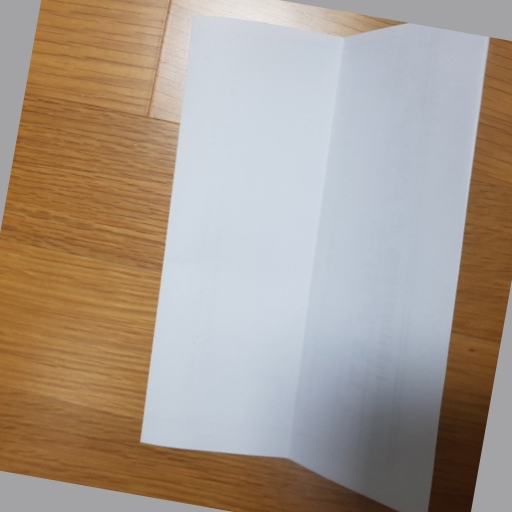Paper_3: (132, 17, 502, 512)
